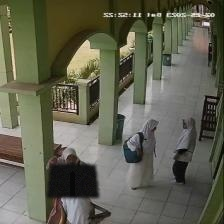Cadar_Niqab: (47, 147, 98, 197)
